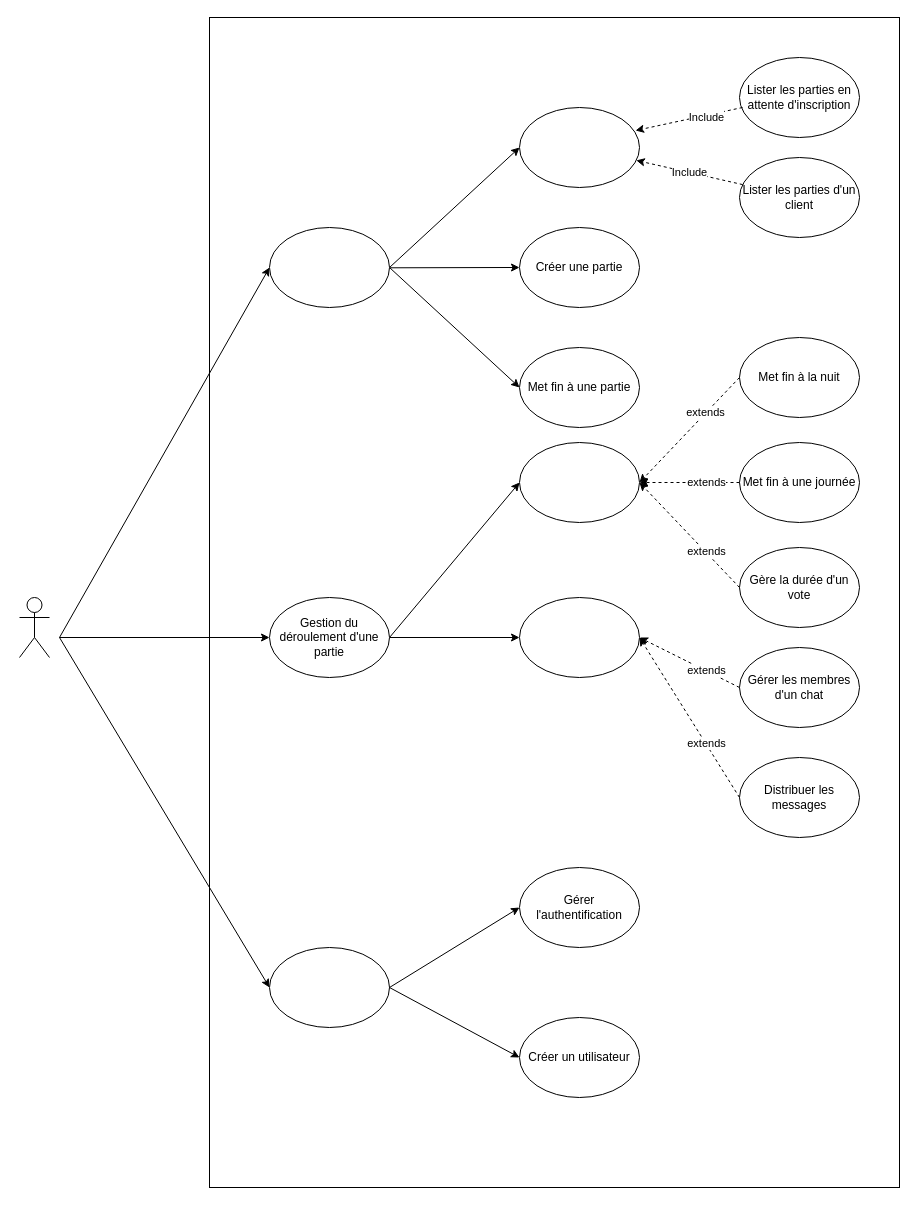
Image size: 917x1205. Some labels were removed from this diagram. The shapes that lost their labels are listed below. From the top down, each one's box as (x1, y1, x2, y2) in pixels, then its label:
(518, 106, 640, 188): Lister des parties
(268, 226, 390, 308): Gestion des parties
(518, 442, 640, 522): Gère l'avancement d'un partie
(18, 596, 50, 658): Server
(518, 596, 640, 678): Gestion des chats
(268, 946, 390, 1028): Gestion des utilisateurs
